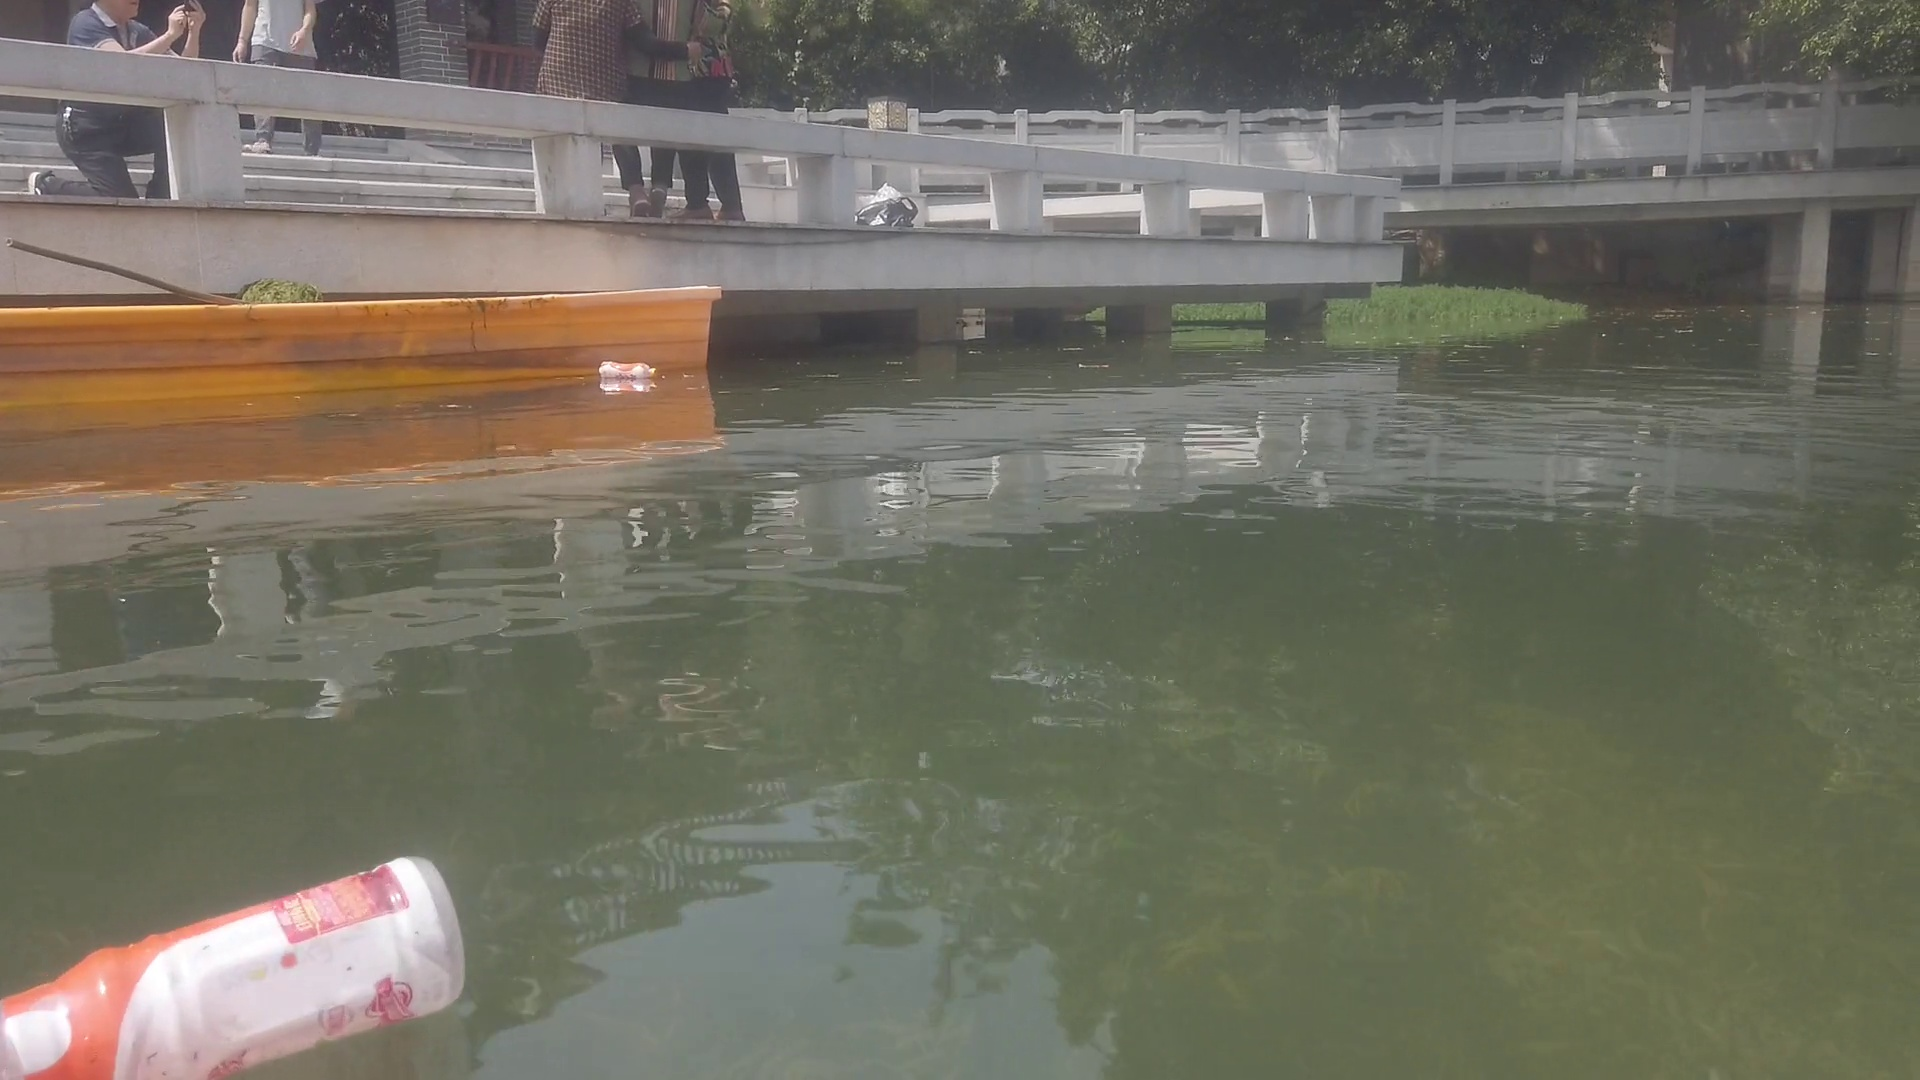bottle: (3, 857, 467, 1080), (595, 357, 655, 382)
